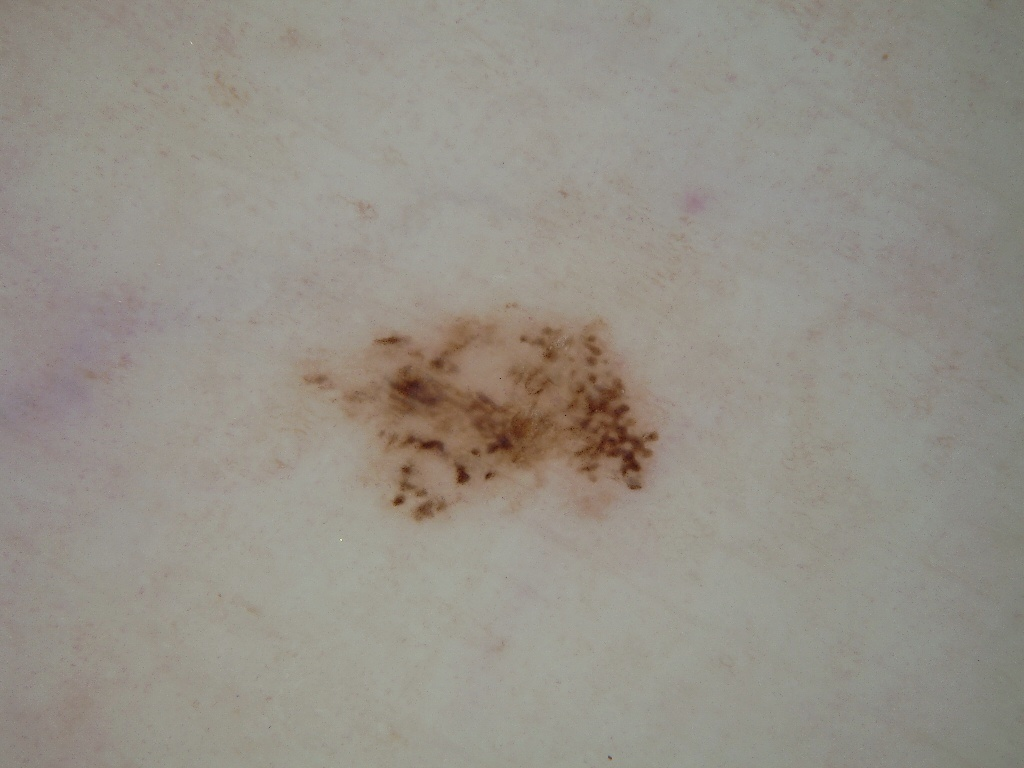Detected Lesion: (307, 306, 659, 529)
